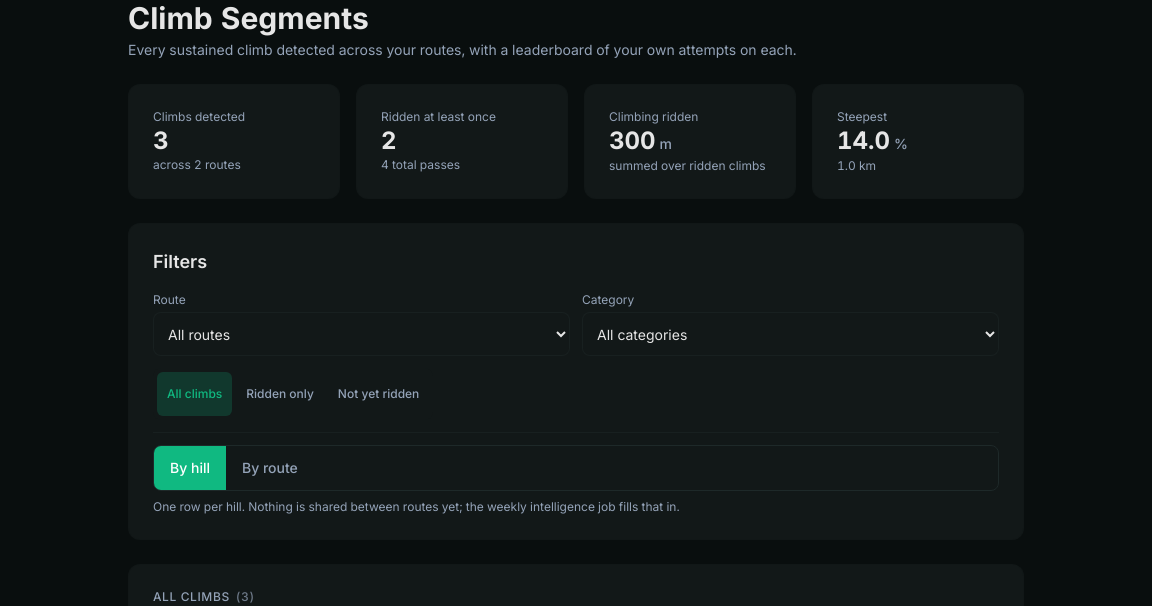
Test: segments page › offers a clear action only when a filter is active
Select "Cat HC" in the dropdown named "Filter by category": (790, 334) [582,312,999,356]
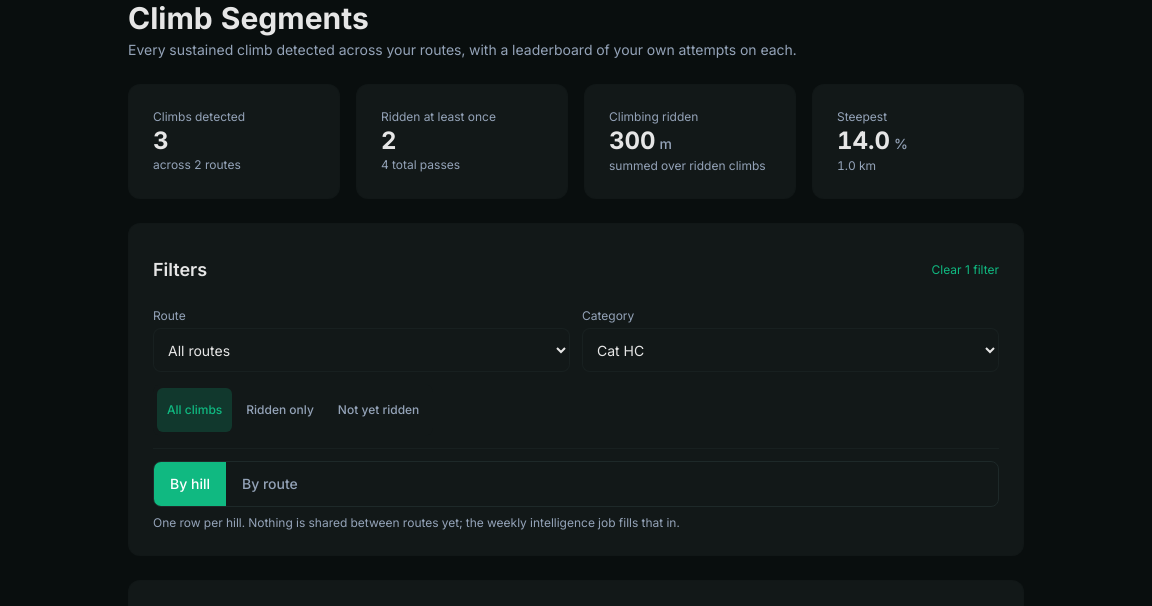
Click the button "Clear 1 filter": click(965, 270) [932,248,999,292]
(page scrolled)
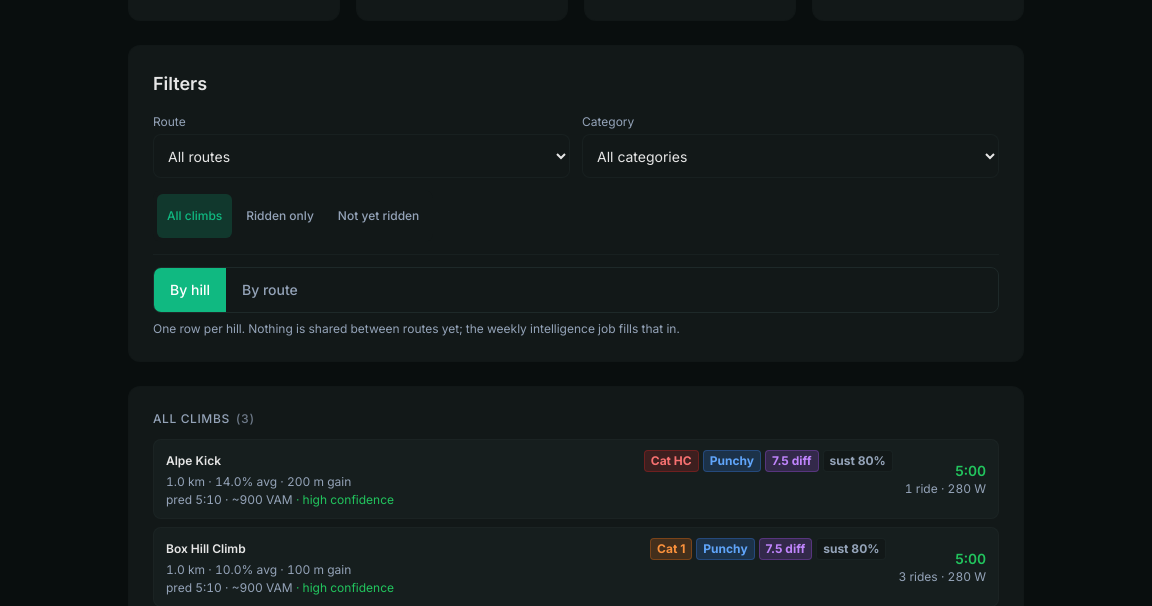
Check: the text "Box Hill Climb" is shown, box [166,541,246,556]
Check: the button "Clear 1 filter" is gone
